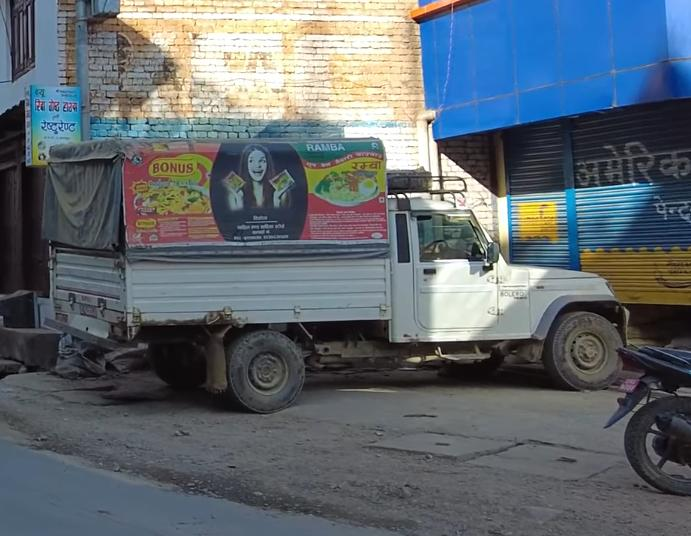bike: (606, 307, 691, 517)
transport_vehicle: (35, 133, 647, 418)
